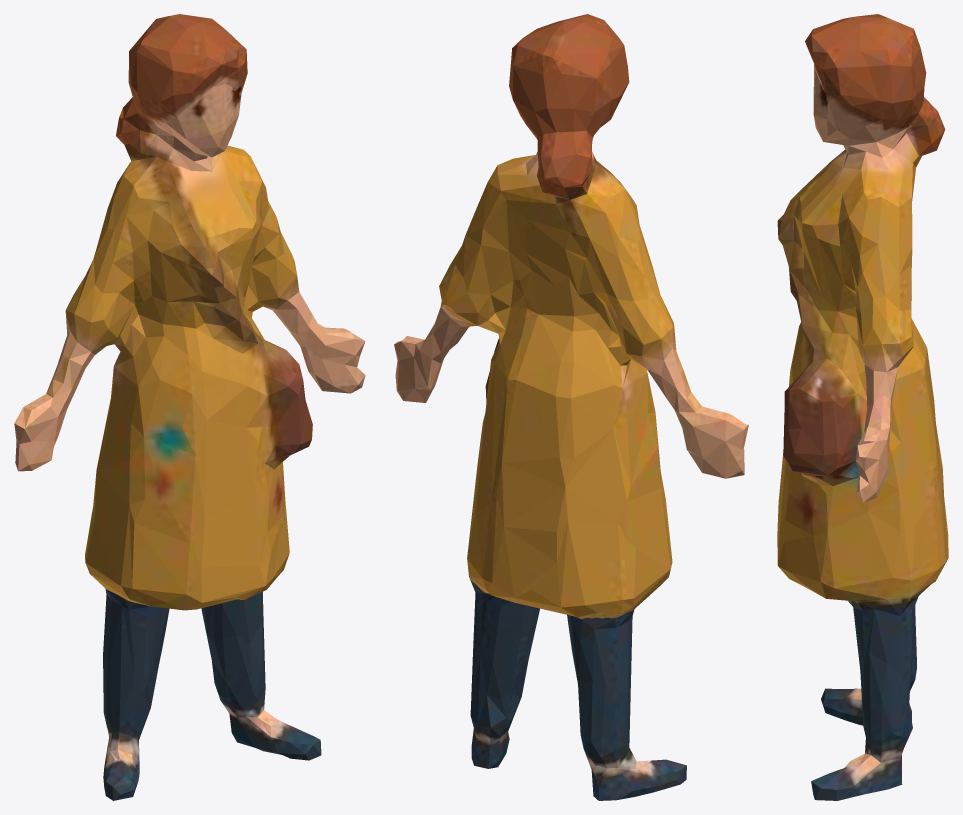
The model's file is habitant-loin.glb.
3 renders of one model, left to right at view 1: azimuth 30°, elevation 25°; view 2: azimuth 150°, elevation 25°; view 3: azimuth 270°, elevation 25°, orthographic. The views are drawn at different scales.
Visible parts, largest first — view 1: habitant; view 2: habitant; view 3: habitant.
Part boxes in pixels (<box>): habitant: <box>14,14,365,800</box>; habitant: <box>394,14,748,800</box>; habitant: <box>777,14,948,800</box>.
Size of the model in its own units: 0.4904 by 1.01 by 0.2127.
Materials: 1 (1 with a texture image).
